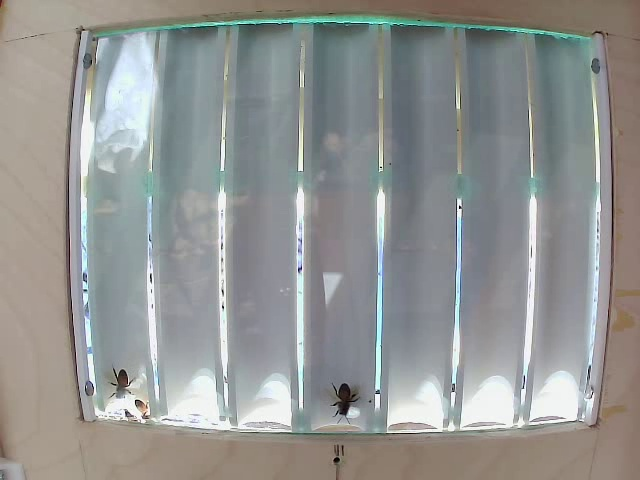bee: (312, 363, 373, 411)
